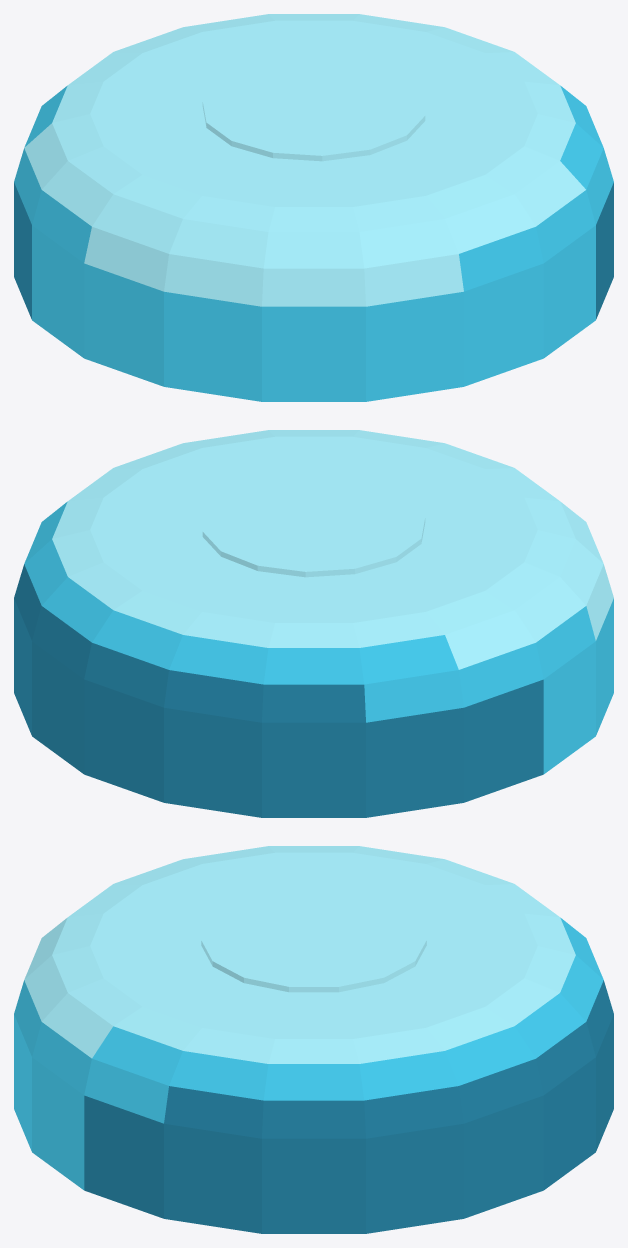
The model's file is Plate_LatchPad.gltf.
The picture shows the model from 3 angles, top to bottom: view 1: azimuth 30°, elevation 25°; view 2: azimuth 150°, elevation 25°; view 3: azimuth 270°, elevation 25°; orthographic projection.
Parts seen in each view (by area): view 1: Plate_LatchPad_baked; view 2: Plate_LatchPad_baked; view 3: Plate_LatchPad_baked.
Part boxes in pixels (left/top/right/bottom): Plate_LatchPad_baked: left=14, top=14, right=613, bottom=401; Plate_LatchPad_baked: left=14, top=430, right=613, bottom=817; Plate_LatchPad_baked: left=14, top=846, right=613, bottom=1233.
Bounding box in the file's own units: 0.3939 × 0.124 × 0.4.
